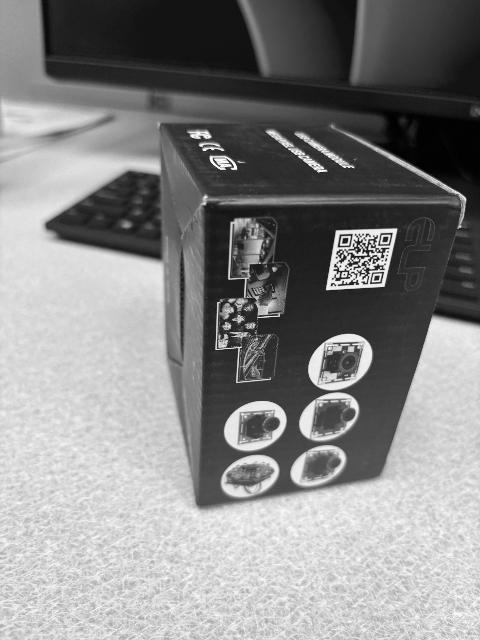CameraBox2: (158, 121, 466, 512)
